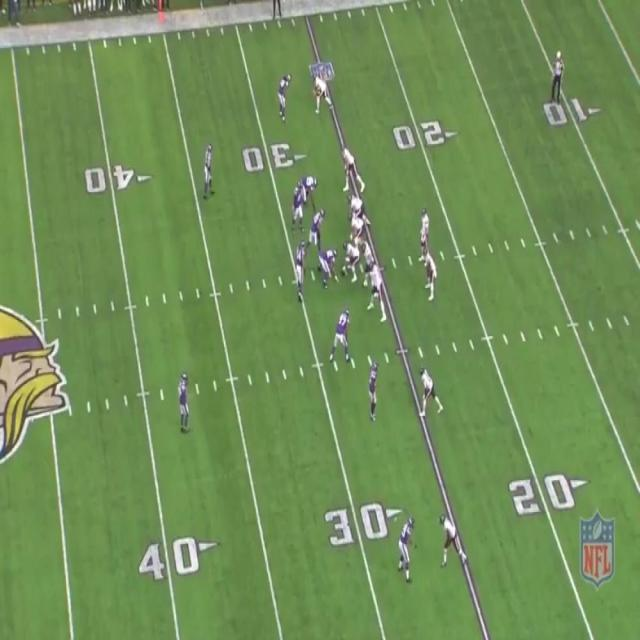center: (342, 240, 358, 282)
db: (396, 512, 414, 579), (178, 372, 191, 433), (366, 359, 380, 415), (202, 144, 216, 196), (276, 72, 290, 119)
lb: (295, 243, 309, 300), (292, 177, 306, 227)
qb: (420, 207, 431, 241)
